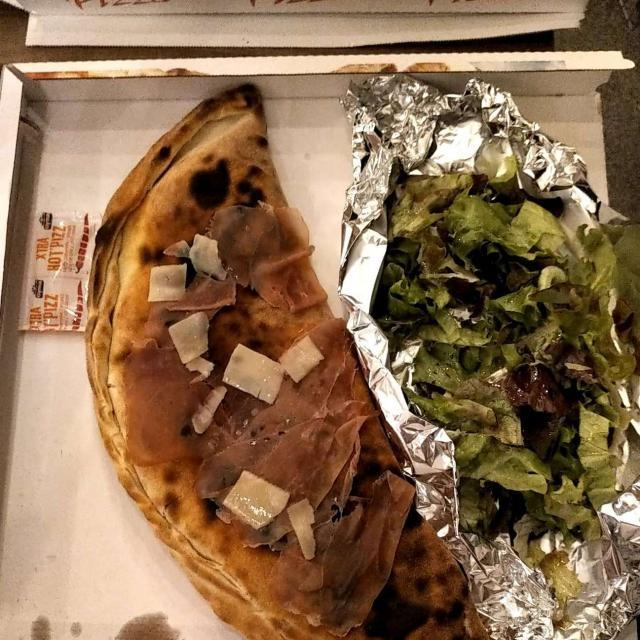cheese: (151, 239, 327, 561)
ham: (102, 218, 423, 614)
salad: (390, 178, 620, 572)
